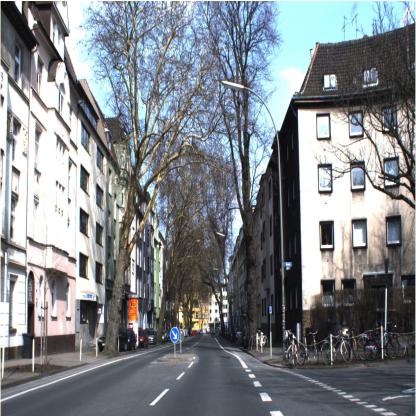keep right: (170, 326, 179, 342)
